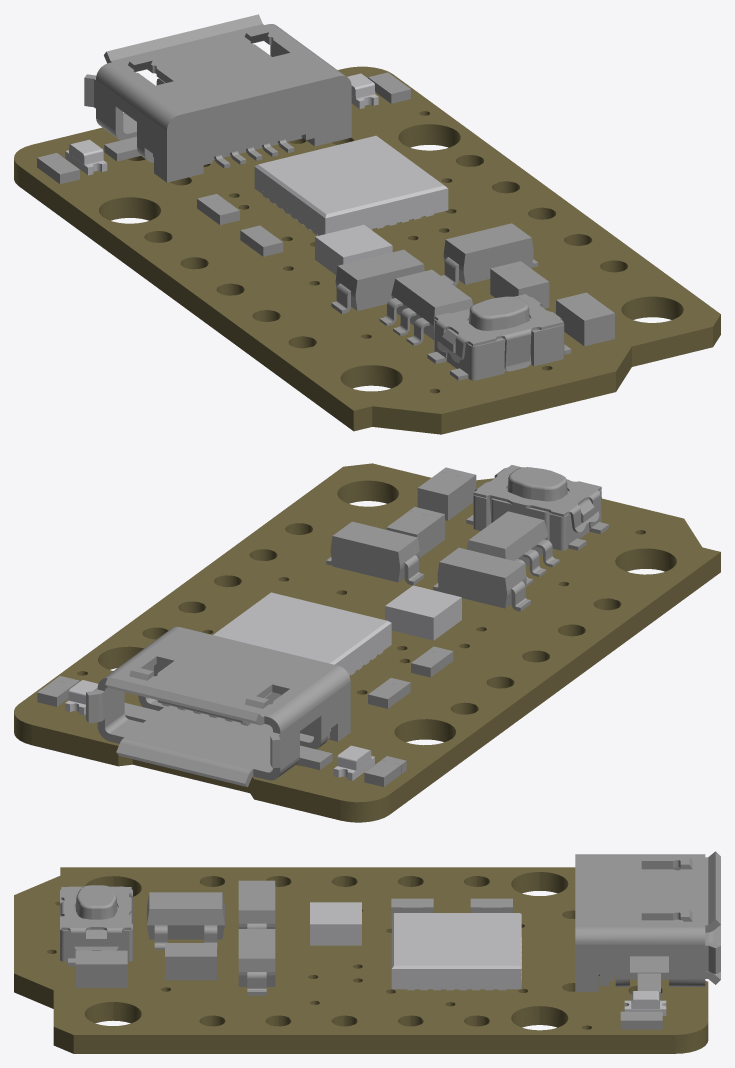
Rendered from ada-3500.glb.
The picture shows the model from 3 angles, top to bottom: view 1: azimuth 30°, elevation 25°; view 2: azimuth 150°, elevation 25°; view 3: azimuth 270°, elevation 25°; orthographic projection. The views are drawn at different scales.
Parts seen in each view (by area): view 1: 0.16666666666666666_0.16666666666666666_0.08333333333333333_, 0.3333333333333333_0.3333333333333333_0.3333333333333333_0, 0.5833333333333334_0.5833333333333334_0.5833333333333334_0.8; view 2: 0.16666666666666666_0.16666666666666666_0.08333333333333333_, 0.3333333333333333_0.3333333333333333_0.3333333333333333_0, 0.5833333333333334_0.5833333333333334_0.5833333333333334_0.8; view 3: 0.16666666666666666_0.16666666666666666_0.08333333333333333_, 0.3333333333333333_0.3333333333333333_0.3333333333333333_0, 0.5833333333333334_0.5833333333333334_0.5833333333333334_0.8.
Boxes of the visible parts, box(x1,y1,x2,y2) form: 0.16666666666666666_0.16666666666666666_0.08333333333333333_: box(14, 66, 720, 434); 0.3333333333333333_0.3333333333333333_0.3333333333333333_0: box(37, 14, 614, 380); 0.5833333333333334_0.5833333333333334_0.5833333333333334_0.8: box(65, 73, 448, 274); 0.16666666666666666_0.16666666666666666_0.08333333333333333_: box(14, 463, 720, 822); 0.3333333333333333_0.3333333333333333_0.3333333333333333_0: box(37, 465, 608, 787); 0.5833333333333334_0.5833333333333334_0.5833333333333334_0.8: box(65, 585, 461, 780); 0.16666666666666666_0.16666666666666666_0.08333333333333333_: box(14, 867, 708, 1053); 0.3333333333333333_0.3333333333333333_0.3333333333333333_0: box(60, 851, 720, 1029); 0.5833333333333334_0.5833333333333334_0.5833333333333334_0.8: box(310, 902, 666, 1015).
Bounding box in the file's own units: 1.52 × 0.357 × 2.72.
